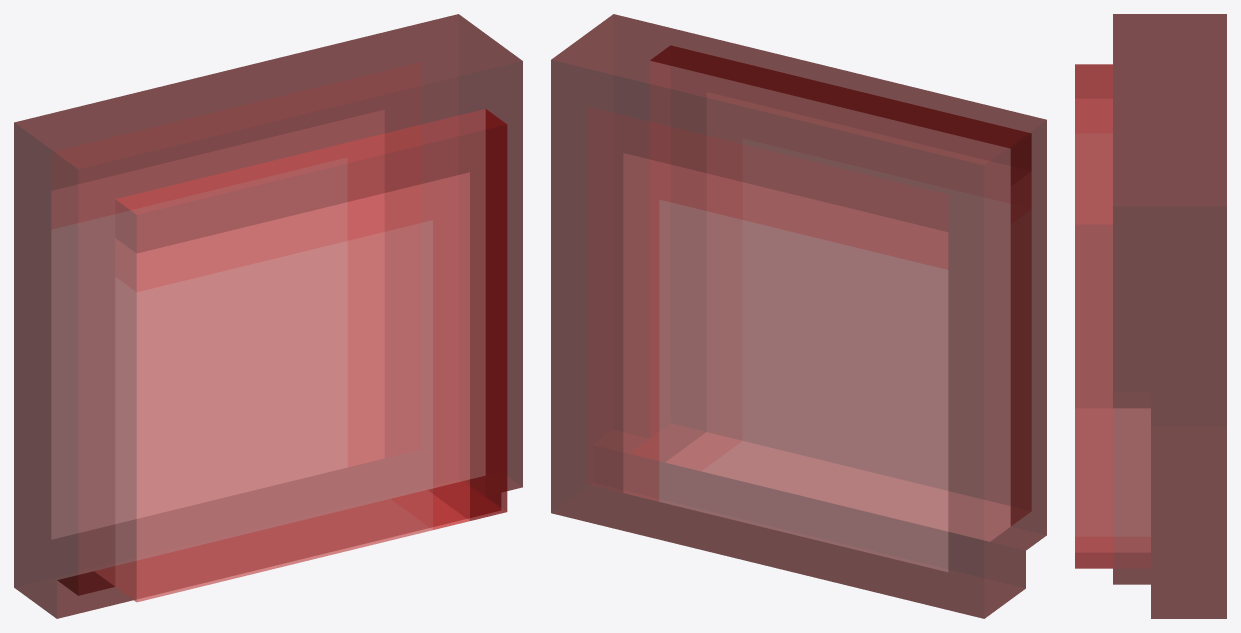
The model's file is screen_red.glb.
3 views of the same model, side by side, from view 1: azimuth 30°, elevation 25°; view 2: azimuth 150°, elevation 25°; view 3: azimuth 270°, elevation 25° (orthographic). The views are drawn at different scales.
Parts seen in each view (by area): view 1: bb0 screen; view 2: bb0 screen; view 3: bb0 screen.
Boxes of the visible parts, bbox=[...] form: bb0 screen: bbox=[14, 14, 522, 618]; bb0 screen: bbox=[551, 14, 1046, 618]; bb0 screen: bbox=[1075, 14, 1226, 618].
Bounding box in the file's own units: 12 × 12 × 4.
